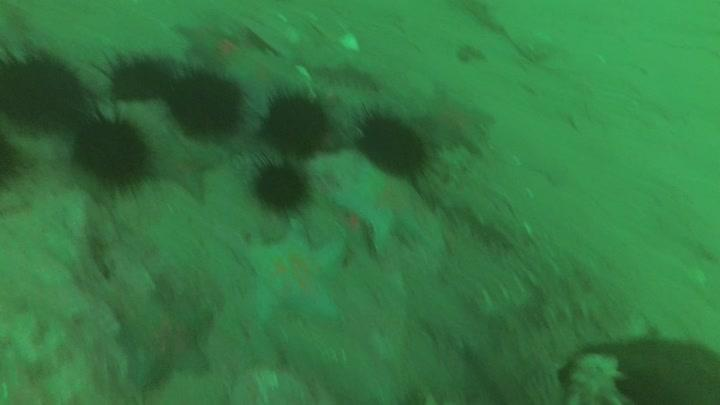urchin: (1, 39, 84, 144), (67, 106, 152, 194), (164, 63, 247, 145), (259, 84, 330, 162), (99, 40, 174, 109), (356, 107, 426, 176), (249, 154, 306, 212)
